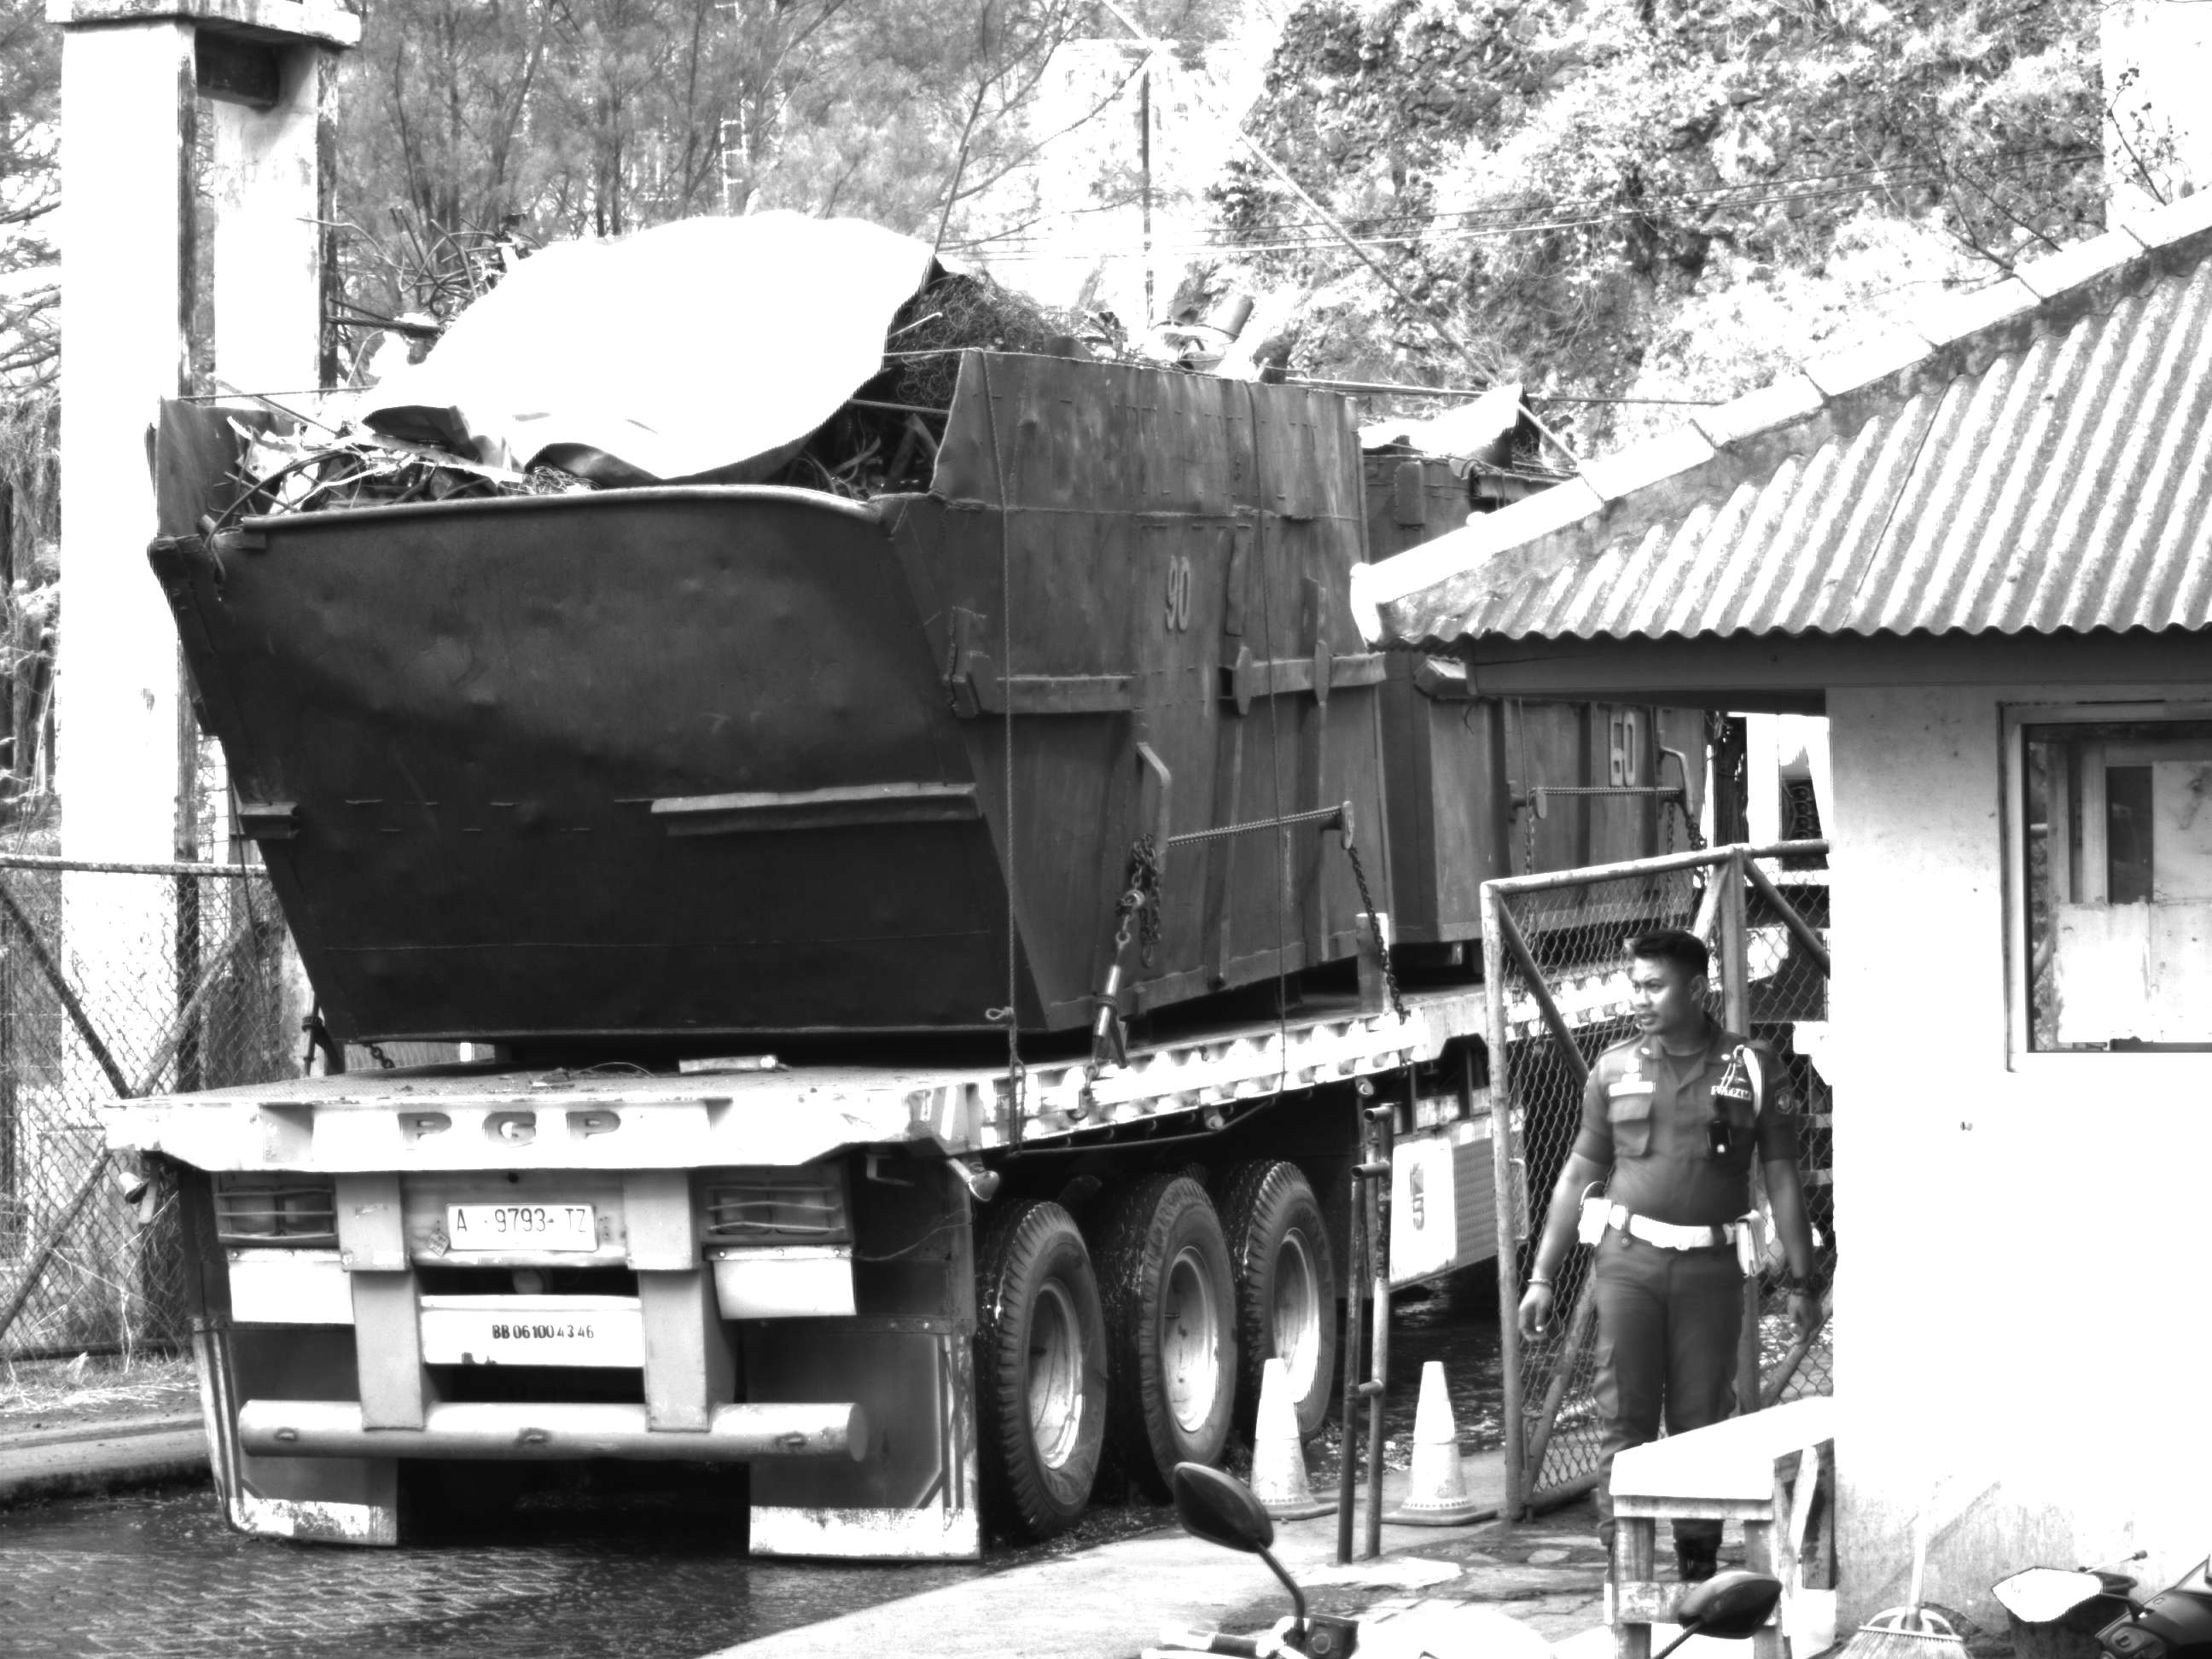day_truck_rear: (85, 1088, 1129, 1567)
plate: (442, 1200, 609, 1257)
